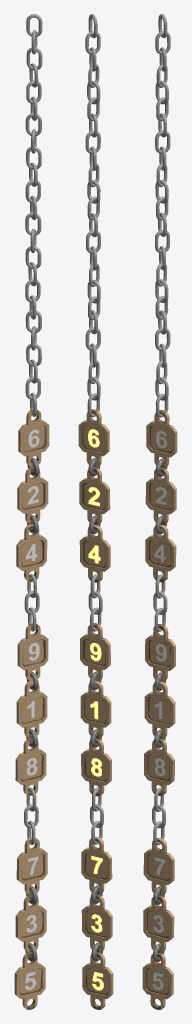
Rendered from lines.gltf.
3 renders of one model, left to right at view 1: azimuth 30°, elevation 25°; view 2: azimuth 150°, elevation 25°; view 3: azimuth 330°, elevation 25°, orthographic.
Visible parts, largest first — view 1: chain.001, chain, lines_5, lines_9, lines_6, lines_8, lines_1, lines_7, lines_2, lines_3, lines_4; view 2: chain.001, chain, lines_5, lines_6, lines_1, lines_7, lines_8, lines_4, lines_9, lines_3, lines_2; view 3: chain.001, chain, lines_5, lines_6, lines_7, lines_1, lines_4, lines_9, lines_3, lines_2, lines_8.
Part boxes in pixels (left/top/right/bottom): chain.001: left=25, top=14, right=42, bottom=416; chain: left=24, top=457, right=39, bottom=961; lines_5: left=14, top=952, right=45, bottom=1009; lines_9: left=17, top=623, right=48, bottom=681; lines_6: left=18, top=409, right=49, bottom=466; lines_8: left=15, top=738, right=46, bottom=795; lines_1: left=16, top=681, right=47, bottom=738; lines_7: left=16, top=837, right=47, bottom=895; lines_2: left=17, top=467, right=48, bottom=524; lines_3: left=15, top=895, right=46, bottom=952; lines_4: left=16, top=524, right=47, bottom=581; chain.001: left=85, top=14, right=100, bottom=417; chain: left=88, top=457, right=103, bottom=961; lines_5: left=82, top=952, right=113, bottom=1009; lines_6: left=78, top=409, right=109, bottom=467; lines_1: left=80, top=680, right=111, bottom=738; lines_7: left=81, top=836, right=112, bottom=894; lines_8: left=81, top=738, right=111, bottom=796; lines_4: left=79, top=524, right=110, bottom=582; lines_9: left=80, top=623, right=110, bottom=680; lines_3: left=81, top=894, right=112, bottom=952; lines_2: left=79, top=467, right=110, bottom=524; chain.001: left=155, top=14, right=170, bottom=417; chain: left=152, top=458, right=167, bottom=962; lines_5: left=142, top=952, right=173, bottom=1009; lines_6: left=146, top=410, right=177, bottom=467; lines_7: left=143, top=838, right=174, bottom=895; lines_1: left=144, top=682, right=175, bottom=738; lines_4: left=145, top=525, right=176, bottom=582; lines_9: left=145, top=624, right=175, bottom=681; lines_3: left=143, top=895, right=174, bottom=952; lines_2: left=145, top=468, right=176, bottom=524; lines_8: left=144, top=739, right=174, bottom=795.
Bounding box in the file's own units: 0.2837 × 8.27 × 0.1567.
10 materials, 10 textured.
